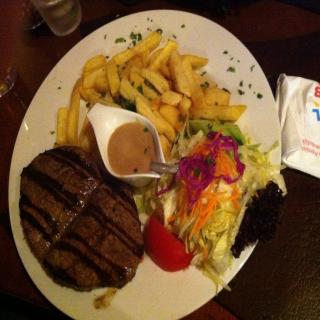French fries: (54, 28, 248, 164)
Salad: (134, 115, 282, 296)
